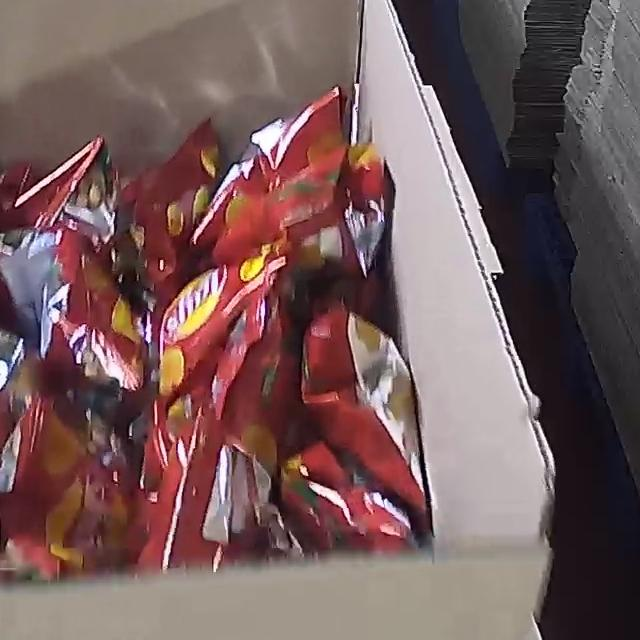masala: (0, 82, 434, 585)
